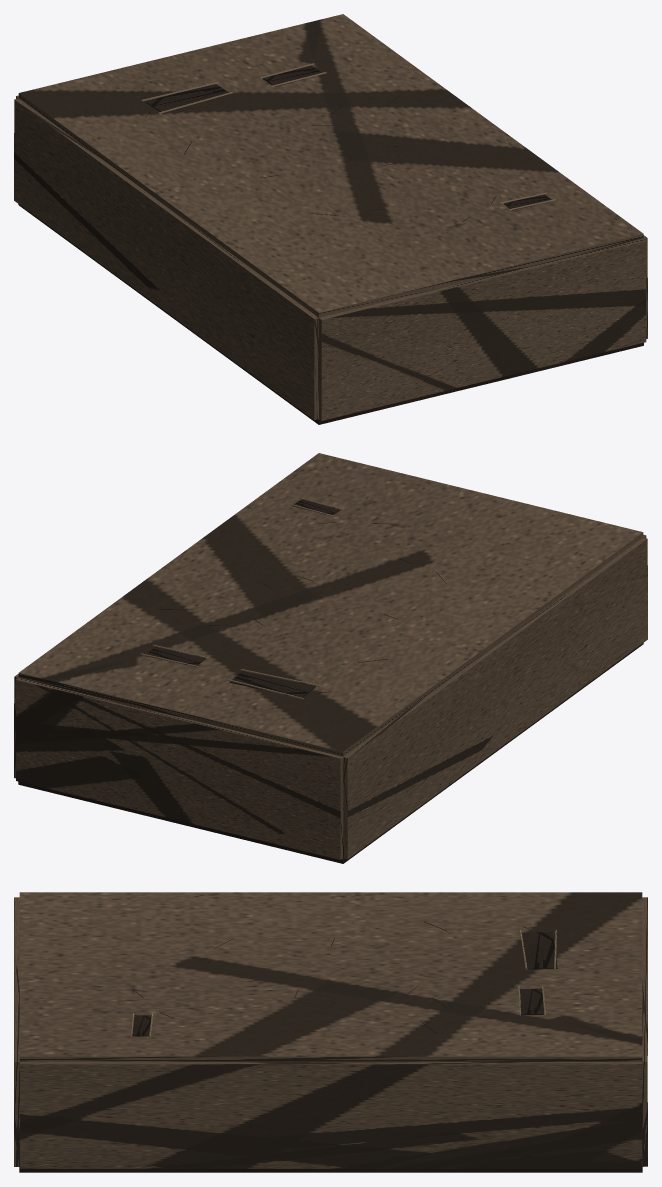
Rendered from gf_entrance_hall.glb.
The picture shows the model from 3 angles, top to bottom: view 1: azimuth 30°, elevation 25°; view 2: azimuth 150°, elevation 25°; view 3: azimuth 270°, elevation 25°; orthographic projection. The views are drawn at different scales.
Visible parts, largest first — view 1: Mesh_ClayWall_GF_EntranceHall_LowCeiling, Wall_GF_EntranceHall_South, Wall_GF_EntranceHall_West, Mesh_ClayStone_GF_EntranceHall_FloorBoards, Mesh_ClayCeilingMissingPatch_GF_EntranceHall_0; view 2: Mesh_ClayWall_GF_EntranceHall_LowCeiling, Wall_GF_EntranceHall_North, Wall_GF_EntranceHall_West, Mesh_ClayStone_GF_EntranceHall_FloorBoards, Mesh_ClayCeilingMissingPatch_GF_EntranceHall_0; view 3: Mesh_ClayWall_GF_EntranceHall_LowCeiling, Wall_GF_EntranceHall_East, Mesh_ClayStone_GF_EntranceHall_FloorBoards, Wall_GF_EntranceHall_North, Wall_GF_EntranceHall_South, Mesh_ClayCeilingMissingPatch_GF_EntranceHall_0, Mesh_ClayCeilingMissingPatch_GF_EntranceHall_1.
Part boxes in pixels (left/top/right/bottom): Mesh_ClayWall_GF_EntranceHall_LowCeiling: left=18, top=14, right=643, bottom=317; Wall_GF_EntranceHall_South: left=316, top=239, right=646, bottom=420; Wall_GF_EntranceHall_West: left=14, top=98, right=318, bottom=420; Mesh_ClayStone_GF_EntranceHall_FloorBoards: left=18, top=204, right=643, bottom=424; Mesh_ClayCeilingMissingPatch_GF_EntranceHall_0: left=146, top=84, right=229, bottom=111; Mesh_ClayWall_GF_EntranceHall_LowCeiling: left=18, top=453, right=643, bottom=756; Wall_GF_EntranceHall_North: left=16, top=678, right=344, bottom=859; Wall_GF_EntranceHall_West: left=343, top=537, right=647, bottom=859; Mesh_ClayStone_GF_EntranceHall_FloorBoards: left=18, top=643, right=643, bottom=863; Mesh_ClayCeilingMissingPatch_GF_EntranceHall_0: left=229, top=671, right=315, bottom=697; Mesh_ClayWall_GF_EntranceHall_LowCeiling: left=19, top=892, right=642, bottom=1061; Wall_GF_EntranceHall_East: left=20, top=1061, right=642, bottom=1168; Mesh_ClayStone_GF_EntranceHall_FloorBoards: left=19, top=1167, right=642, bottom=1172; Wall_GF_EntranceHall_North: left=638, top=897, right=647, bottom=1166; Wall_GF_EntranceHall_South: left=14, top=897, right=19, bottom=1166; Mesh_ClayCeilingMissingPatch_GF_EntranceHall_0: left=522, top=932, right=557, bottom=969; Mesh_ClayCeilingMissingPatch_GF_EntranceHall_1: left=520, top=988, right=544, bottom=1014.
Size of the model in its own units: 10.25 by 3.44 by 16.26.
12 materials, 11 textured.
